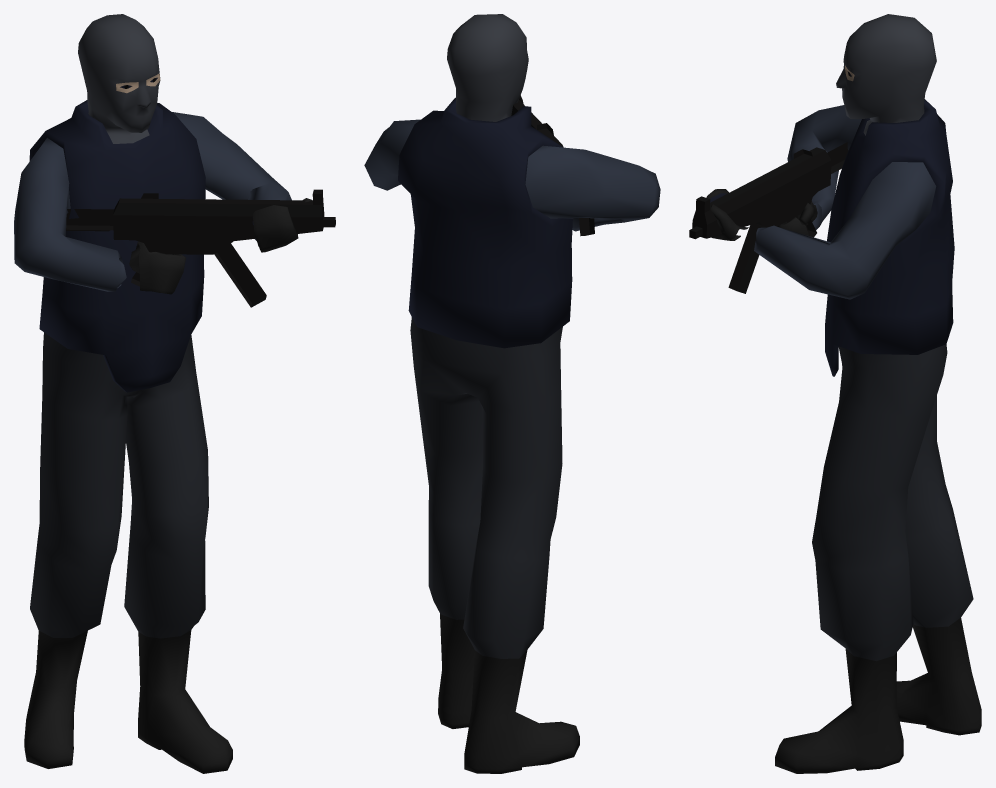
Rendered from police.obj.
The picture shows the model from 3 angles, left to right: view 1: azimuth 30°, elevation 25°; view 2: azimuth 150°, elevation 25°; view 3: azimuth 270°, elevation 25°; orthographic projection.
Visible parts, largest first — view 1: Limbs_Male.002, Body_Male, MP5A3_Cube.007, Head_Male.003; view 2: Limbs_Male.002, Body_Male, Head_Male.003, MP5A3_Cube.007; view 3: Limbs_Male.002, Body_Male, Head_Male.003, MP5A3_Cube.007.
Boxes of the visible parts, x1,y1,x2,y2 form: Limbs_Male.002: [14, 112, 312, 773]; Body_Male: [29, 100, 205, 392]; MP5A3_Cube.007: [66, 189, 335, 307]; Head_Male.003: [78, 14, 160, 143]; Limbs_Male.002: [364, 95, 660, 773]; Body_Male: [398, 97, 572, 348]; Head_Male.003: [447, 14, 528, 121]; MP5A3_Cube.007: [511, 100, 594, 236]; Limbs_Male.002: [706, 105, 981, 773]; Body_Male: [825, 99, 954, 376]; Head_Male.003: [836, 14, 936, 135]; MP5A3_Cube.007: [689, 142, 848, 293].
Size of the model in its own units: 0.7171 by 1.77 by 0.6499.
10 materials, 2 textured.
